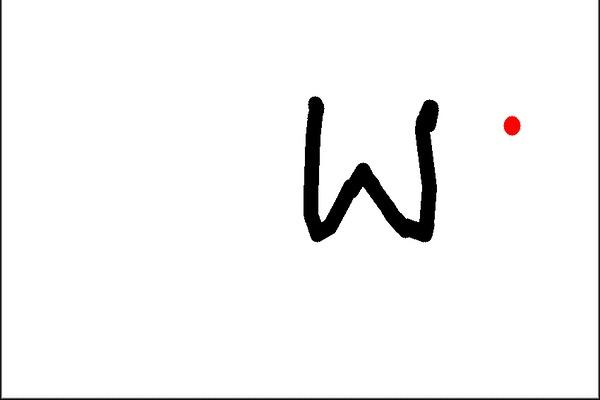w: (290, 79, 452, 263)
